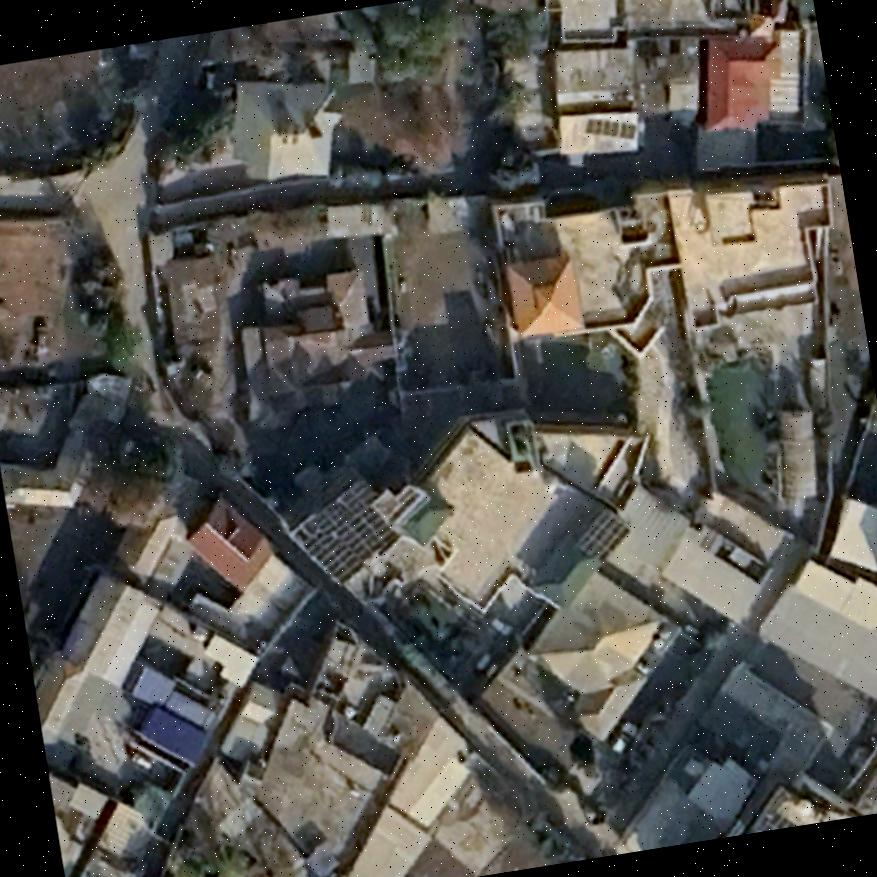Solarpanel: (293, 478, 400, 584), (570, 506, 631, 558), (581, 115, 639, 144)
